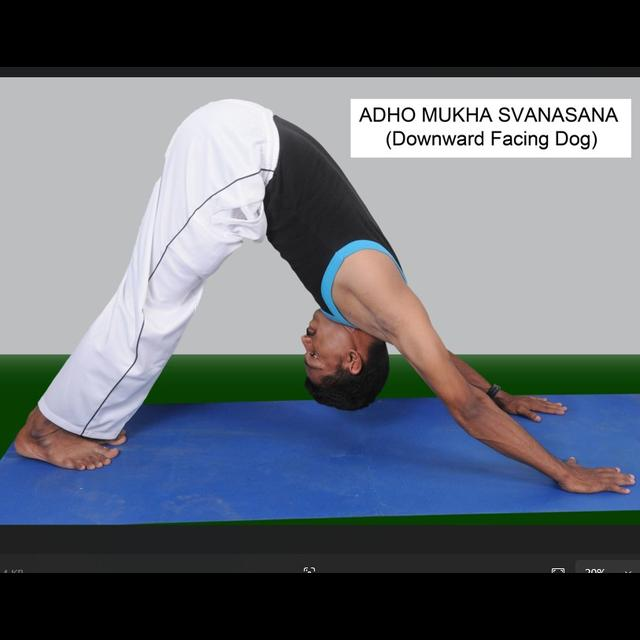Downward-Facing_Dog: (9, 94, 640, 502)
